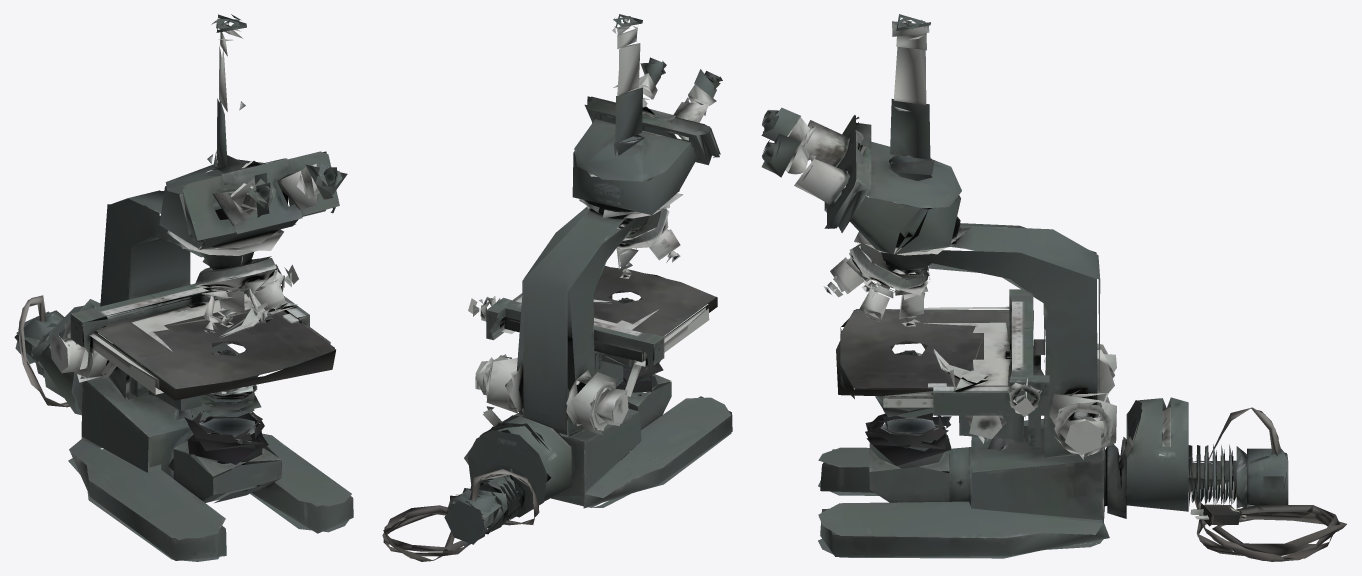
Rendered from industrial_microscope.glb.
The picture shows the model from 3 angles, left to right: view 1: azimuth 30°, elevation 25°; view 2: azimuth 150°, elevation 25°; view 3: azimuth 270°, elevation 25°; orthographic projection. The views are drawn at different scales.
Visible parts, largest first — view 1: industrial_microscope, industrial_microscope_cable; view 2: industrial_microscope, industrial_microscope_cable; view 3: industrial_microscope, industrial_microscope_cable.
Part boxes in pixels (x1=…): industrial_microscope: x1=14, y1=14, x2=353, y2=561; industrial_microscope_cable: x1=18, y1=295, x2=69, y2=407; industrial_microscope: x1=444, y1=14, x2=732, y2=547; industrial_microscope_cable: x1=382, y1=469, x2=539, y2=561; industrial_microscope: x1=761, y1=14, x2=1288, y2=558; industrial_microscope_cable: x1=1190, y1=407, x2=1346, y2=561.
Bounding box in the file's own units: 0.2146 × 0.4665 × 0.4969.
1 material, 1 textured.
